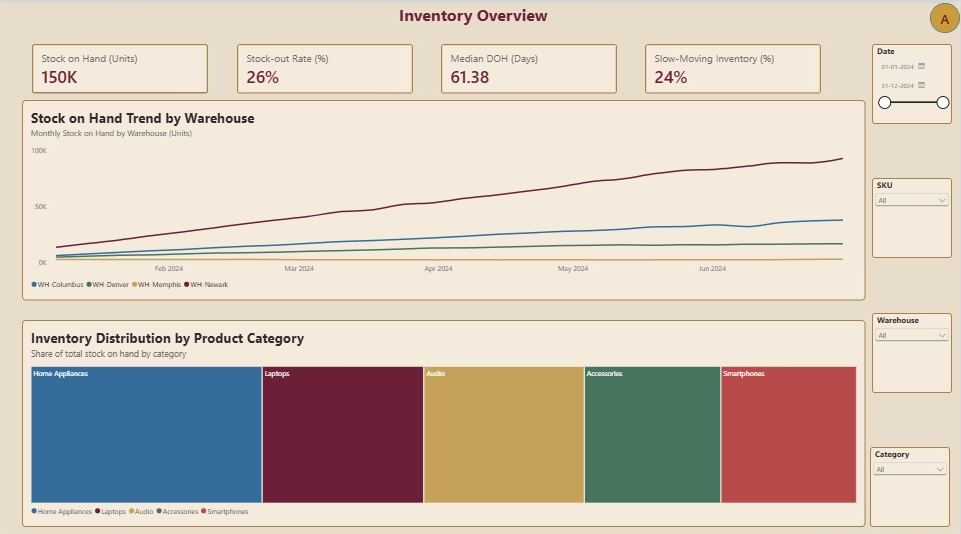

The dashboard page shown, as its layout file describes it:
{"tool":"powerbi","page":{"name":"Inventory Overview","canvas":[1920,1080],"ordinal":0},"visuals":[{"type":"slicer","fields":{"Values":["Dim_Product.Category"]},"box":[1741,887.8,160,160],"z":0},{"type":"slicer","fields":{"Values":["DateTable.Date"]},"box":[1743.1,82.1,160,160],"z":2000},{"type":"slicer","fields":{"Values":["Dim_Warehouse.WarehouseName"]},"box":[1743.1,619.2,160,160],"z":3000},{"type":"cardVisual","fields":{"Data":["_Measures.Stock on Hand"]},"box":[64.8,82.1,352.1,99.4],"z":4000},{"type":"lineChart","title":"Stock on Hand Trend by Warehouse","fields":{"Category":["DateTable.Date"],"Series":["Dim_Warehouse.WarehouseName"],"Y":["_Measures.Stock on Hand (Trend)"]},"box":[43.2,194.4,1686.8,400.6],"z":5000},{"type":"treemap","title":"Inventory Distribution by Product Category","fields":{"Group":["Dim_Product.Category"],"Values":["_Measures.Stock on Hand"]},"box":[43.4,633.8,1686.8,414.3],"z":6000},{"type":"slicer","fields":{"Values":["Dim_Product.SKU"]},"box":[1743.7,350.6,160,160],"z":7000},{"type":"textbox","box":[99.4,0,1693.4,45.4],"z":8000},{"type":"cardVisual","fields":{"Data":["_Measures.Stock-out Rate"]},"box":[473.2,82.5,352.1,99.4],"z":9000},{"type":"cardVisual","fields":{"Data":["_Measures.Slow-Moving %"]},"box":[1290.1,82.5,352.1,99.4],"z":10000},{"type":"cardVisual","fields":{"Data":["_Measures.Median DOH Across SKUs"]},"box":[881.7,82.1,352.1,99.4],"z":11000},{"type":"textbox","title":"Designed & developed by Mirza Afzal Baig | Afzalytics","box":[1413.8,1062.3,506.6,17.7],"z":12000},{"type":"shape","box":[1859.8,0,60,60],"z":13000}]}

Visuals, with their boxes in screenshot pixels (x1, y1, x2, y2), scaled from the page's 1920x1080 canvas onto the 961x534 screenshot:
slicer - Dim_Product.Category: <box>871,439,951,518</box>
slicer - DateTable.Date: <box>872,41,953,120</box>
slicer - Dim_Warehouse.WarehouseName: <box>872,306,953,385</box>
cardVisual - _Measures.Stock on Hand: <box>32,41,209,90</box>
"Stock on Hand Trend by Warehouse" lineChart: <box>22,96,866,294</box>
"Inventory Distribution by Product Category" treemap: <box>22,313,866,518</box>
slicer - Dim_Product.SKU: <box>873,173,953,252</box>
textbox: <box>50,0,897,22</box>
cardVisual - _Measures.Stock-out Rate: <box>237,41,413,90</box>
cardVisual - _Measures.Slow-Moving %: <box>646,41,822,90</box>
cardVisual - _Measures.Median DOH Across SKUs: <box>441,41,618,90</box>
"Designed & developed by Mirza Afzal Baig | Afzalytics" textbox: <box>708,525,960,533</box>
shape: <box>931,0,960,30</box>
